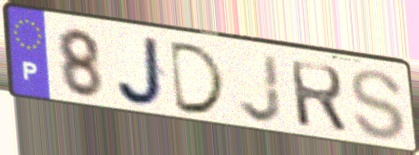8: (53, 26, 107, 101)
D: (168, 39, 230, 118)
J: (113, 34, 169, 109), (237, 51, 285, 126)
R: (287, 58, 350, 136)
S: (348, 66, 408, 143)
